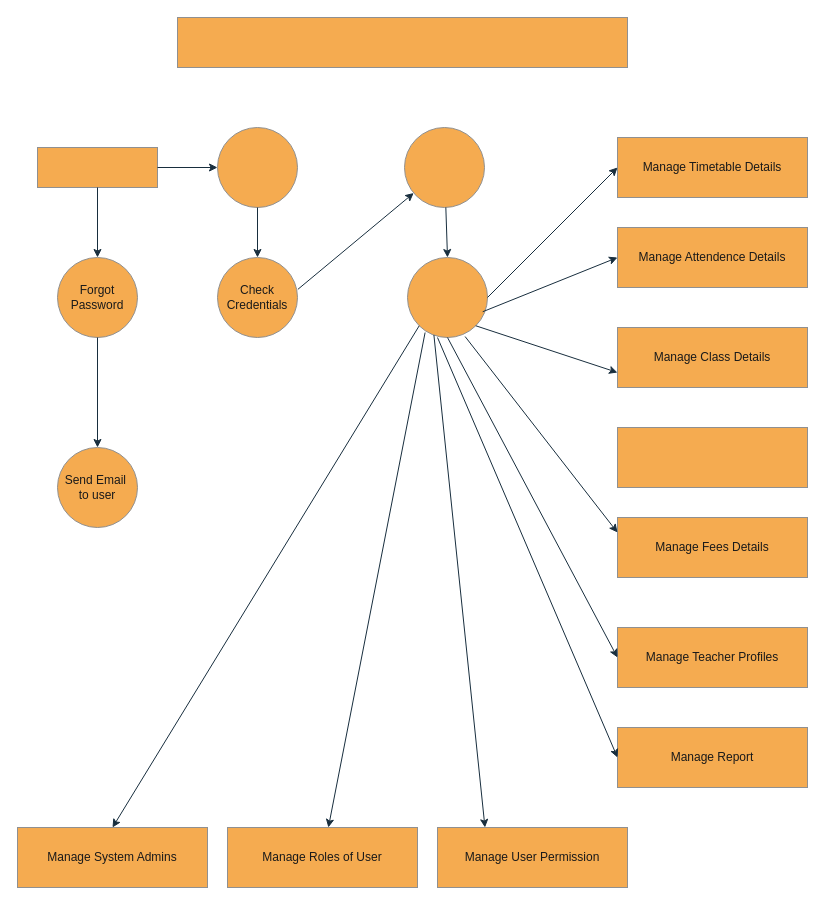
Some shapes in this 825 by 905 pixel diagram are drawn without their labels. Each missing label, with the centre of its shape:
"Admin" goes at pixel 97 167.
"Check Role of Access" goes at pixel 444 167.
"Login to System" goes at pixel 257 167.
"Manage Modules" goes at pixel 447 297.
"Manage Student Details" goes at pixel 712 457.
"Student Information System" goes at pixel 402 42.
